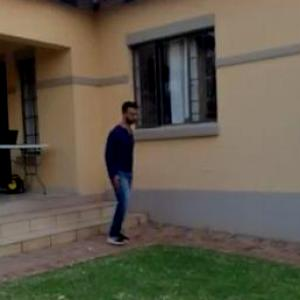follow: (108, 101, 147, 236)
